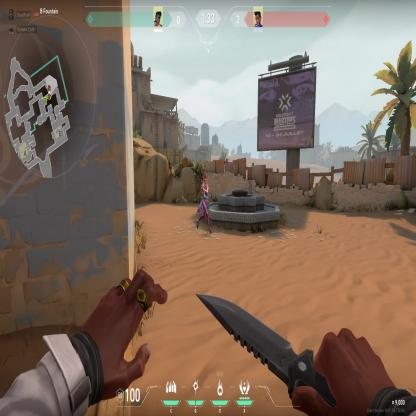enemy: (196, 173, 212, 234)
